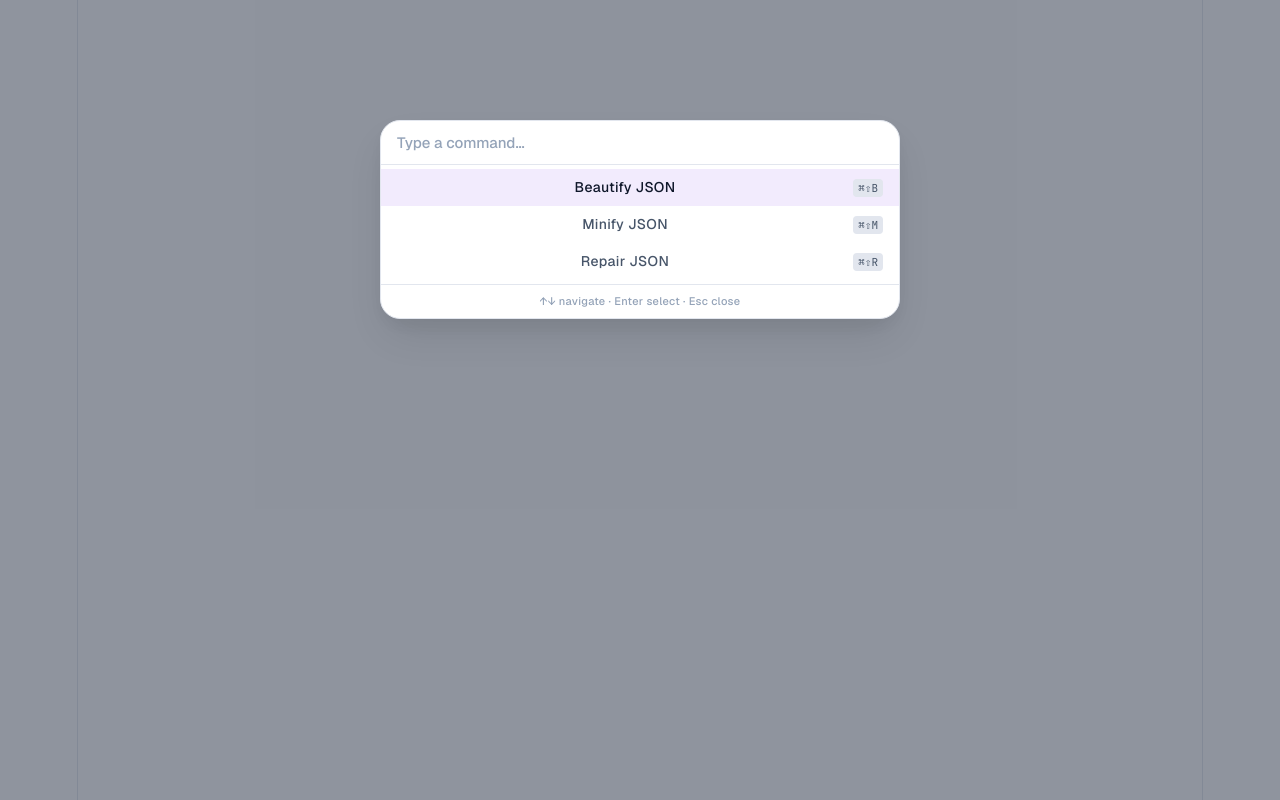
Scenario: CommandPalette — fuzzy search › typing 'min' shows only Minify JSON
Type "min" into the field named "Search commands".
click(640, 143); type("min")  # box x1=381 y1=121 x2=899 y2=165
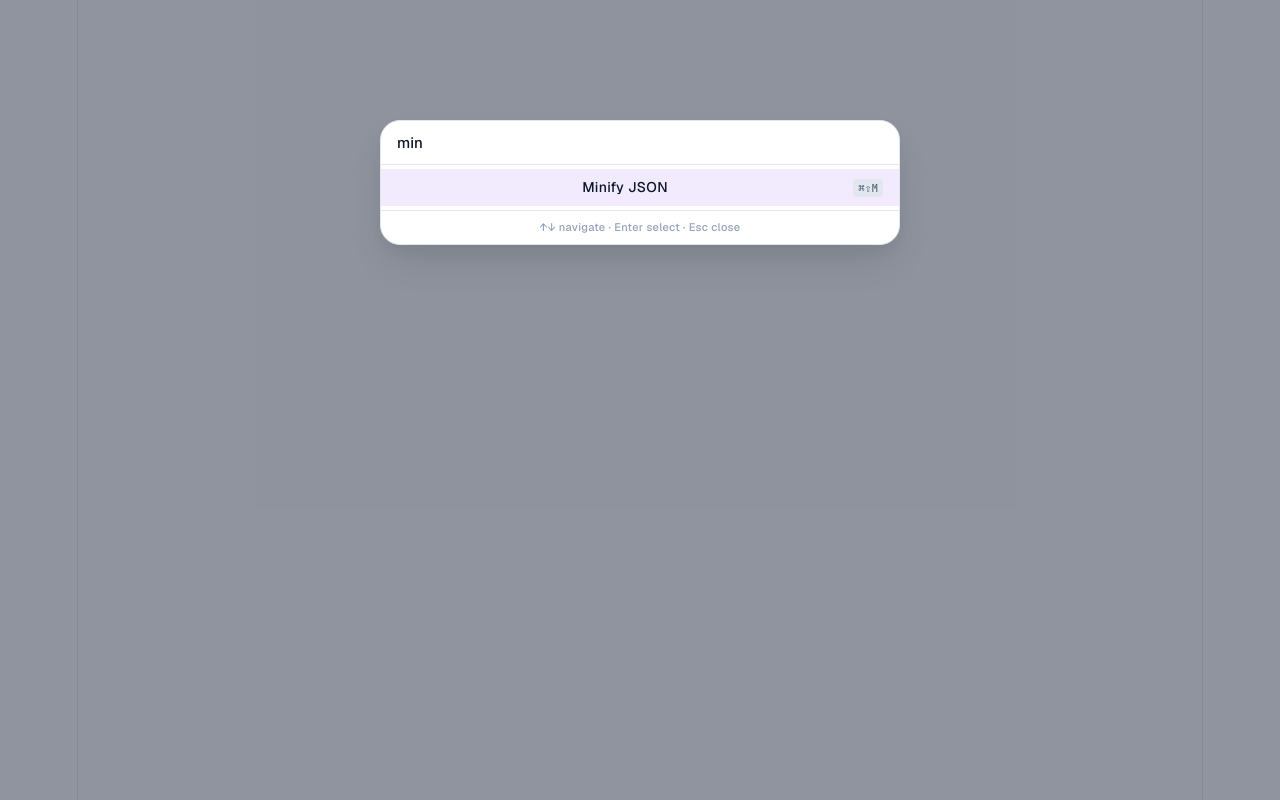
Expected: the text "Minify JSON" is shown, x1=582 y1=178 x2=668 y2=196
Expected: the option "Beautify JSON" is gone
Expected: the option "Repair JSON" is gone
